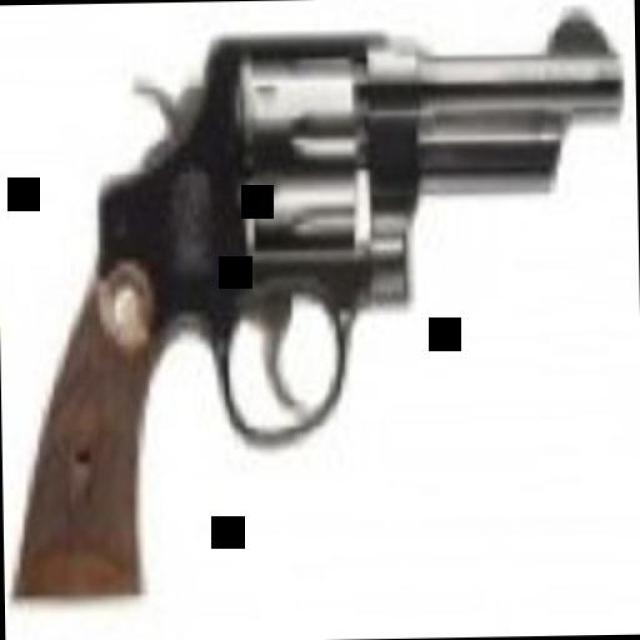gun: (0, 0, 622, 590)
